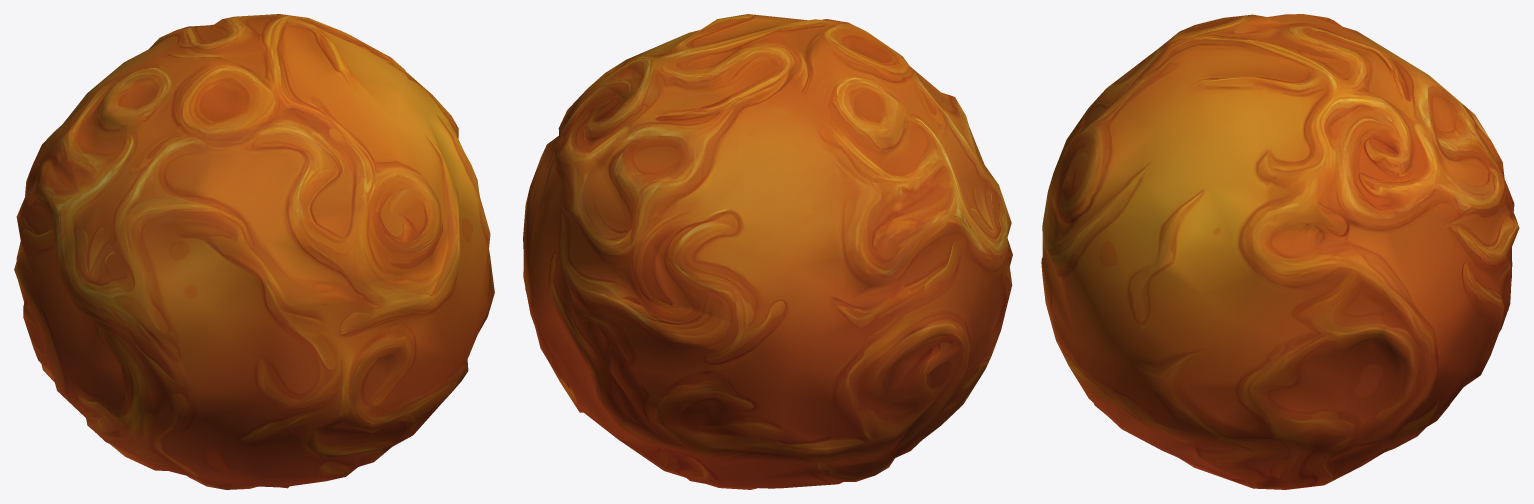
File: Fireball.fbx
3 renders of one model, left to right at view 1: azimuth 30°, elevation 25°; view 2: azimuth 150°, elevation 25°; view 3: azimuth 270°, elevation 25°, orthographic. The views are drawn at different scales.
Visible parts, largest first — view 1: mesh_node; view 2: mesh_node; view 3: mesh_node.
Part boxes in pixels (x1,y1,x2,y2): mesh_node: (14, 14, 494, 489); mesh_node: (523, 14, 1012, 489); mesh_node: (1041, 14, 1519, 489).
Bounding box in the file's own units: 1.77 × 1.76 × 1.78.
